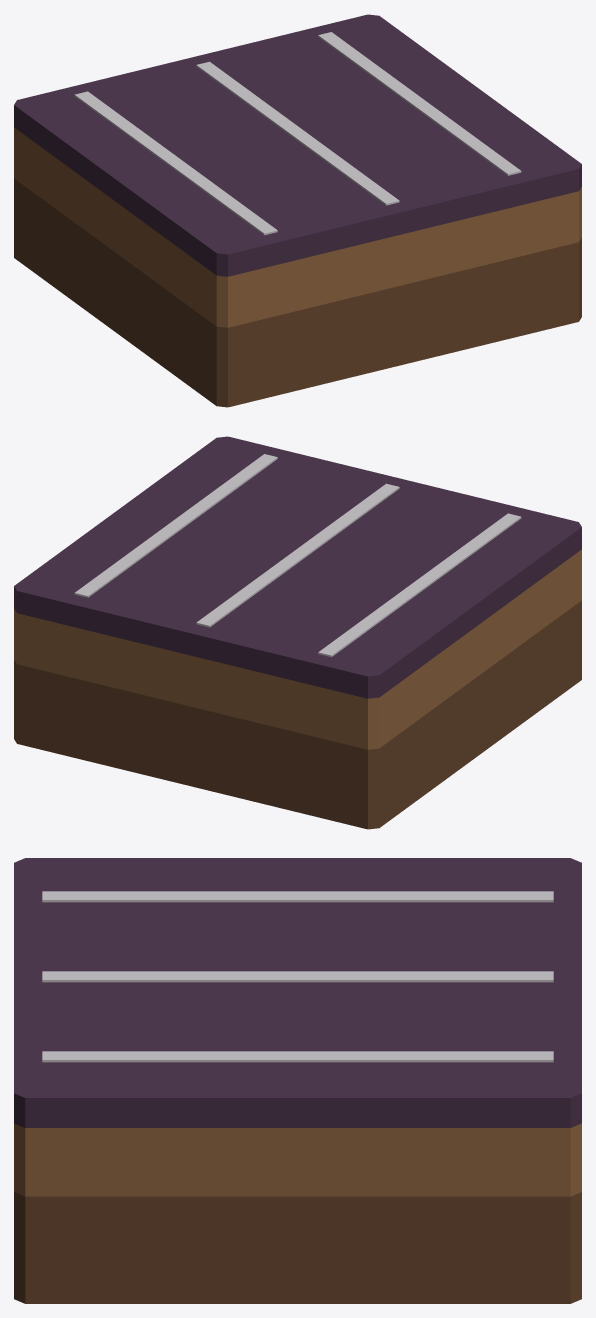
The model's file is ground_asphalt.glb.
3 renders of one model, top to bottom at view 1: azimuth 30°, elevation 25°; view 2: azimuth 150°, elevation 25°; view 3: azimuth 270°, elevation 25°, orthographic. The views are drawn at different scales.
Visible parts, largest first — view 1: ground_asphalt; view 2: ground_asphalt; view 3: ground_asphalt.
Boxes of the visible parts, bbox=[...] form: ground_asphalt: bbox=[14, 14, 581, 407]; ground_asphalt: bbox=[14, 436, 581, 829]; ground_asphalt: bbox=[14, 858, 581, 1303].
Bounding box in the file's own units: 6 × 2.43 × 6.
